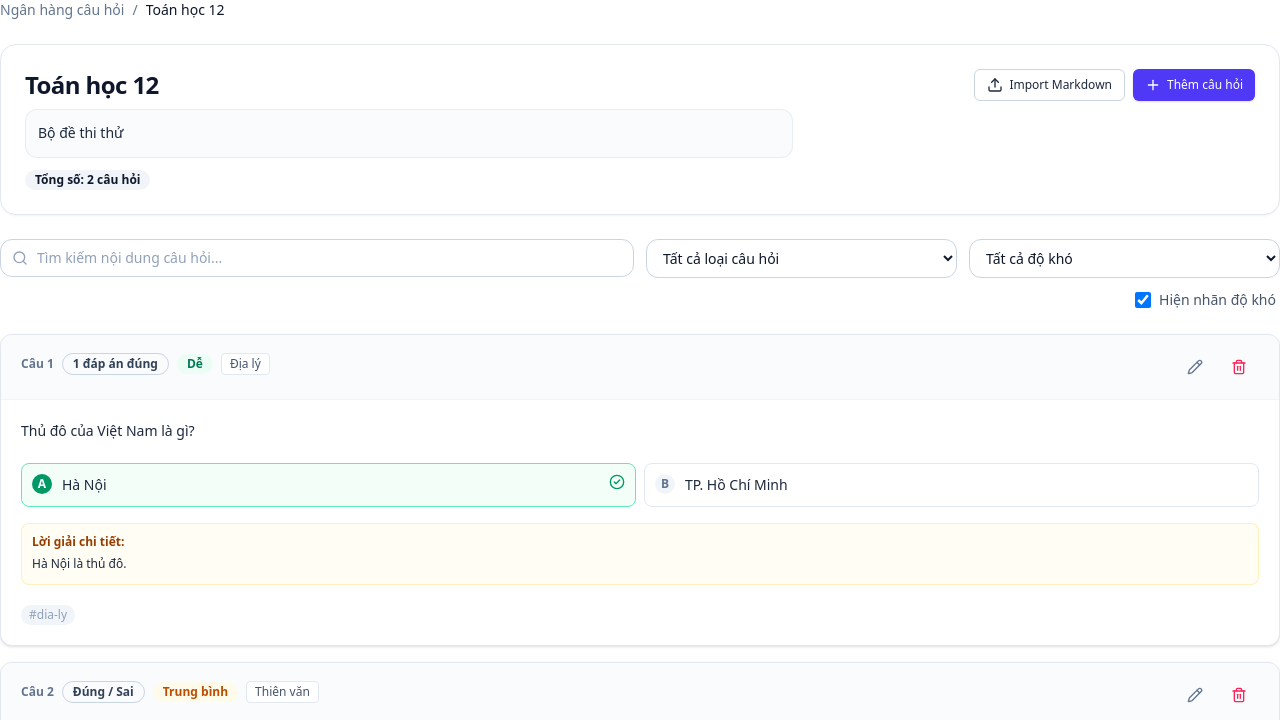
Question Banks Feature Integration › QuestionBankDetailPage › opens question editor modal when clicking "Thêm câu hỏi"
This screenshot has width=1280, height=720.
Click the button "Thêm câu hỏi". click: (1194,85)
box: top-left (1133, 69), bottom-right (1255, 101)
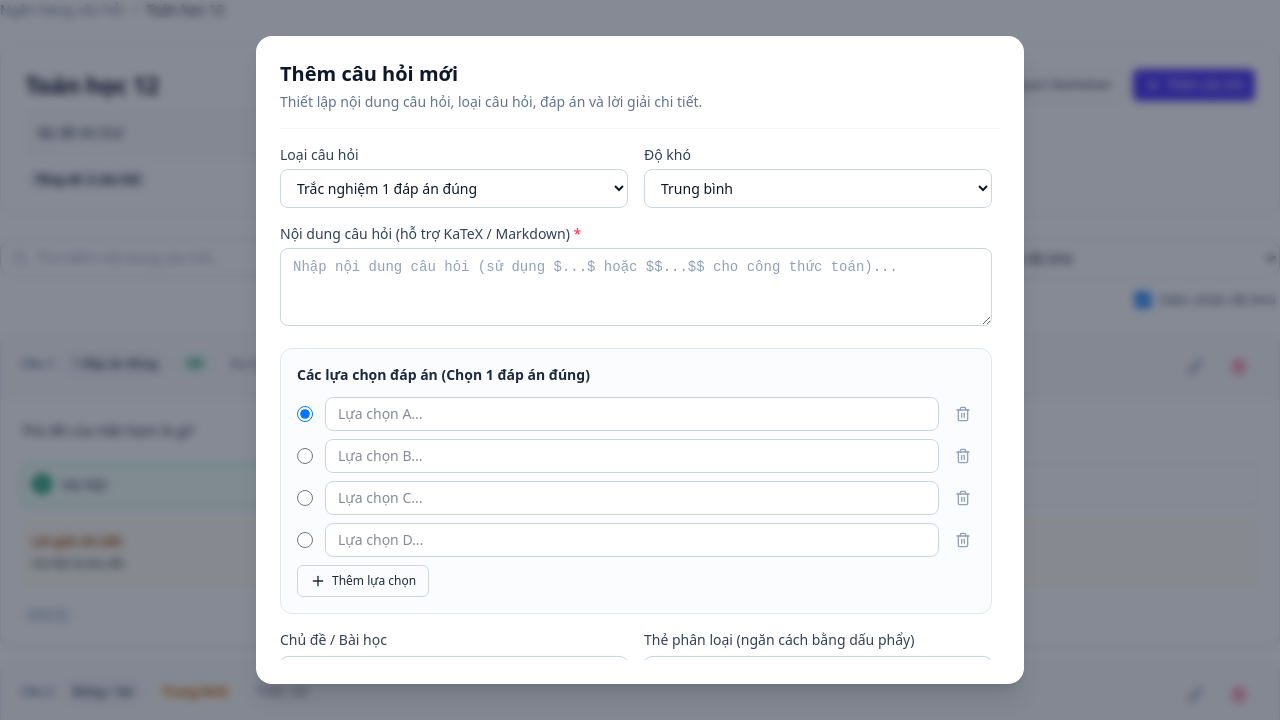
Now the heading "Thêm câu hỏi mới" is shown, box top-left (280, 60), bottom-right (458, 87)
Now the dropdown labelled "Loại câu hỏi" is shown, box top-left (280, 169), bottom-right (628, 208)
Now the text box labelled "Nội dung câu hỏi (hỗ trợ KaTeX / Markdown) *" is shown, box top-left (280, 248), bottom-right (992, 326)
